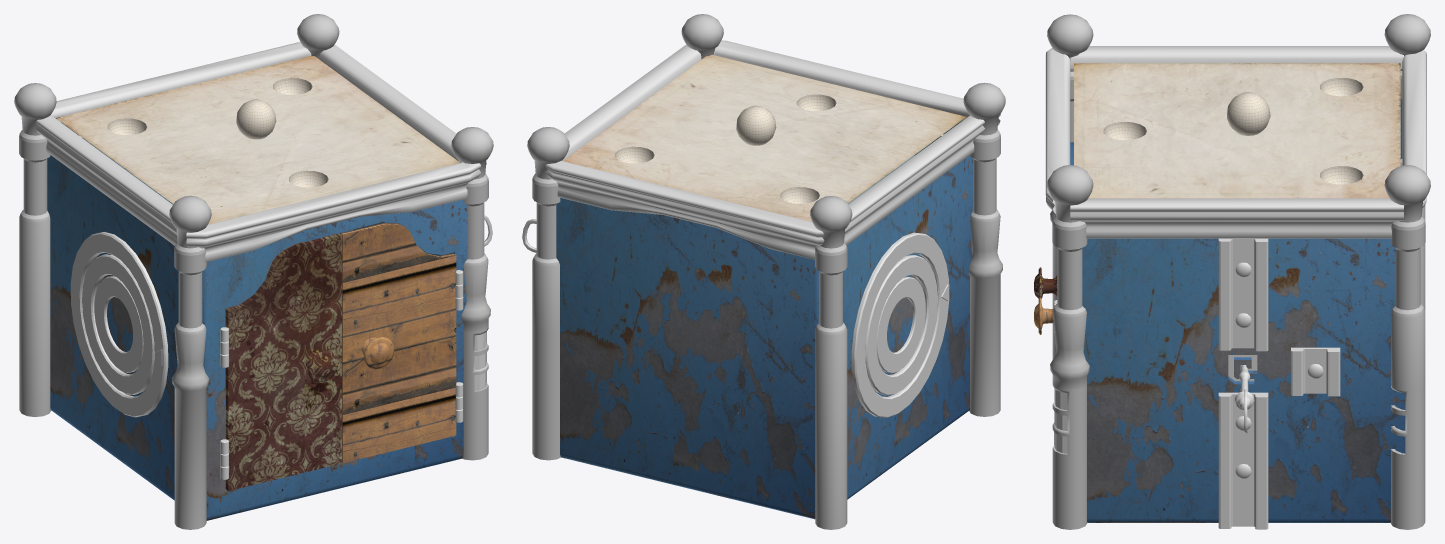
3 views of the same model, side by side, from view 1: azimuth 30°, elevation 25°; view 2: azimuth 150°, elevation 25°; view 3: azimuth 270°, elevation 25° (orthographic). The views are drawn at different scales.
Visible parts, largest first — view 1: Box001, QuadPatch001, Line002, Line001, Line017, Line003, Line016, Circle002, Circle003, Circle004, Sphere006; view 2: Box001, QuadPatch001, Line017, Line016, Line003, Circle002, Circle003, Circle004, Sphere006; view 3: Box001, QuadPatch001, Line017, Line003, Line016, Line010, Sphere001, Sphere006, Line011, Line002.
Boxes of the visible parts, x1,y1,x2,y2 form: Box001: (47, 122, 467, 520); QuadPatch001: (56, 55, 458, 224); Line002: (225, 233, 341, 490); Line001: (340, 223, 456, 462); Line017: (36, 42, 486, 262); Line003: (169, 127, 493, 529); Line016: (14, 14, 339, 416); Circle002: (70, 232, 168, 417); Circle003: (82, 254, 154, 394); Circle004: (94, 276, 143, 372); Sphere006: (236, 99, 276, 139); Box001: (556, 120, 972, 519); QuadPatch001: (563, 54, 966, 221); Line017: (545, 40, 1000, 259); Line016: (527, 127, 852, 529); Line003: (681, 14, 1005, 416); Circle002: (851, 232, 949, 417); Circle003: (865, 255, 937, 395); Circle004: (876, 276, 925, 373); Sphere006: (736, 105, 776, 145); Box001: (1070, 99, 1405, 522); QuadPatch001: (1074, 63, 1400, 198); Line017: (1045, 46, 1426, 238); Line003: (1047, 14, 1093, 529); Line016: (1384, 14, 1430, 529); Line010: (1218, 238, 1268, 529); Sphere001: (1291, 347, 1340, 396); Sphere006: (1227, 92, 1270, 135); Line011: (1228, 355, 1257, 433); Line002: (1034, 267, 1057, 298).
Size of the model in its own units: 87.18 by 67.94 by 68.33.
